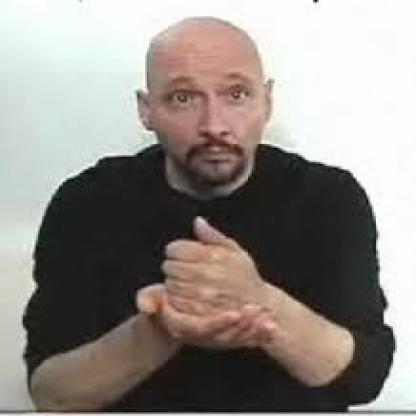help: (114, 155, 297, 370)
